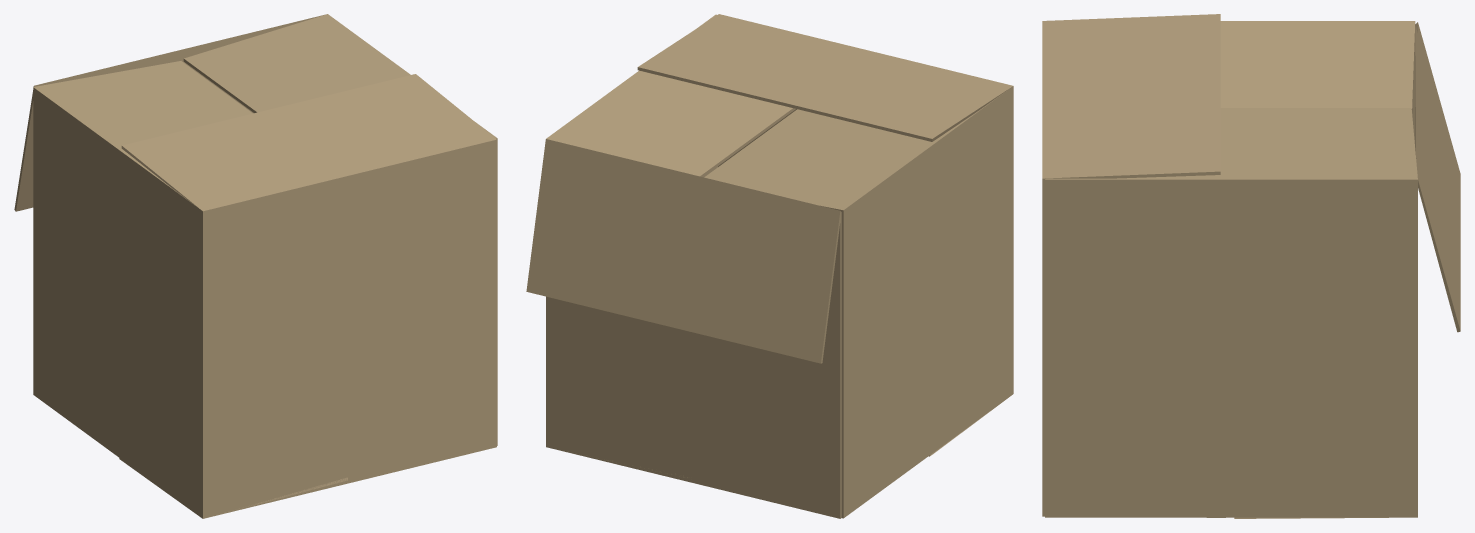
File: CardboardBox1.2.fbx
3 renders of one model, left to right at view 1: azimuth 30°, elevation 25°; view 2: azimuth 150°, elevation 25°; view 3: azimuth 270°, elevation 25°, orthographic. The views are drawn at different scales.
Parts seen in each view (by area): view 1: CardboarBox1.2; view 2: CardboarBox1.2; view 3: CardboarBox1.2.
Boxes of the visible parts, x1,y1,x2,y2 form: CardboarBox1.2: (14, 14, 497, 518); CardboarBox1.2: (526, 14, 1013, 518); CardboarBox1.2: (1042, 14, 1460, 518).
Size of the model in its own units: 96.69 by 98.45 by 108.
